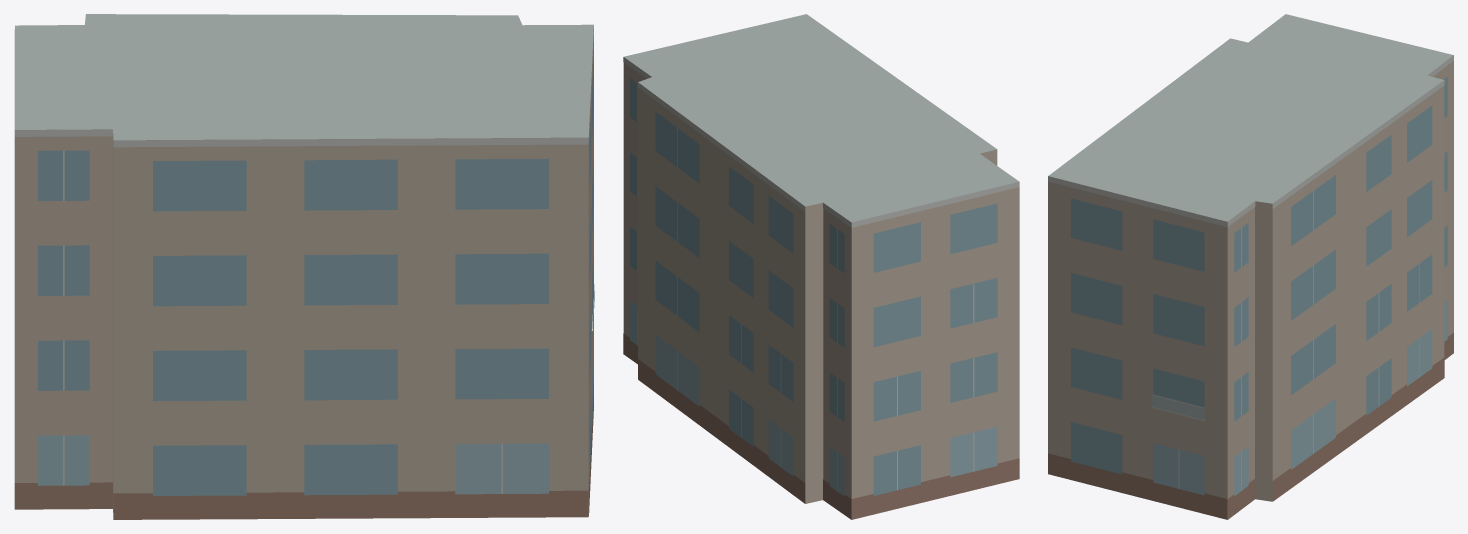
Rendered from survey-upis-32610756.glb.
3 renders of one model, left to right at view 1: azimuth 30°, elevation 25°; view 2: azimuth 150°, elevation 25°; view 3: azimuth 270°, elevation 25°, orthographic. The views are drawn at different scales.
Parts seen in each view (by area): view 1: survey-upis-32610756.tmp; view 2: survey-upis-32610756.tmp; view 3: survey-upis-32610756.tmp.
Part boxes in pixels (x1=…): survey-upis-32610756.tmp: x1=14, y1=14, x2=594, y2=519; survey-upis-32610756.tmp: x1=623, y1=14, x2=1019, y2=519; survey-upis-32610756.tmp: x1=1048, y1=14, x2=1453, y2=519.
Size of the model in its own units: 19.97 by 13.35 by 16.48.
